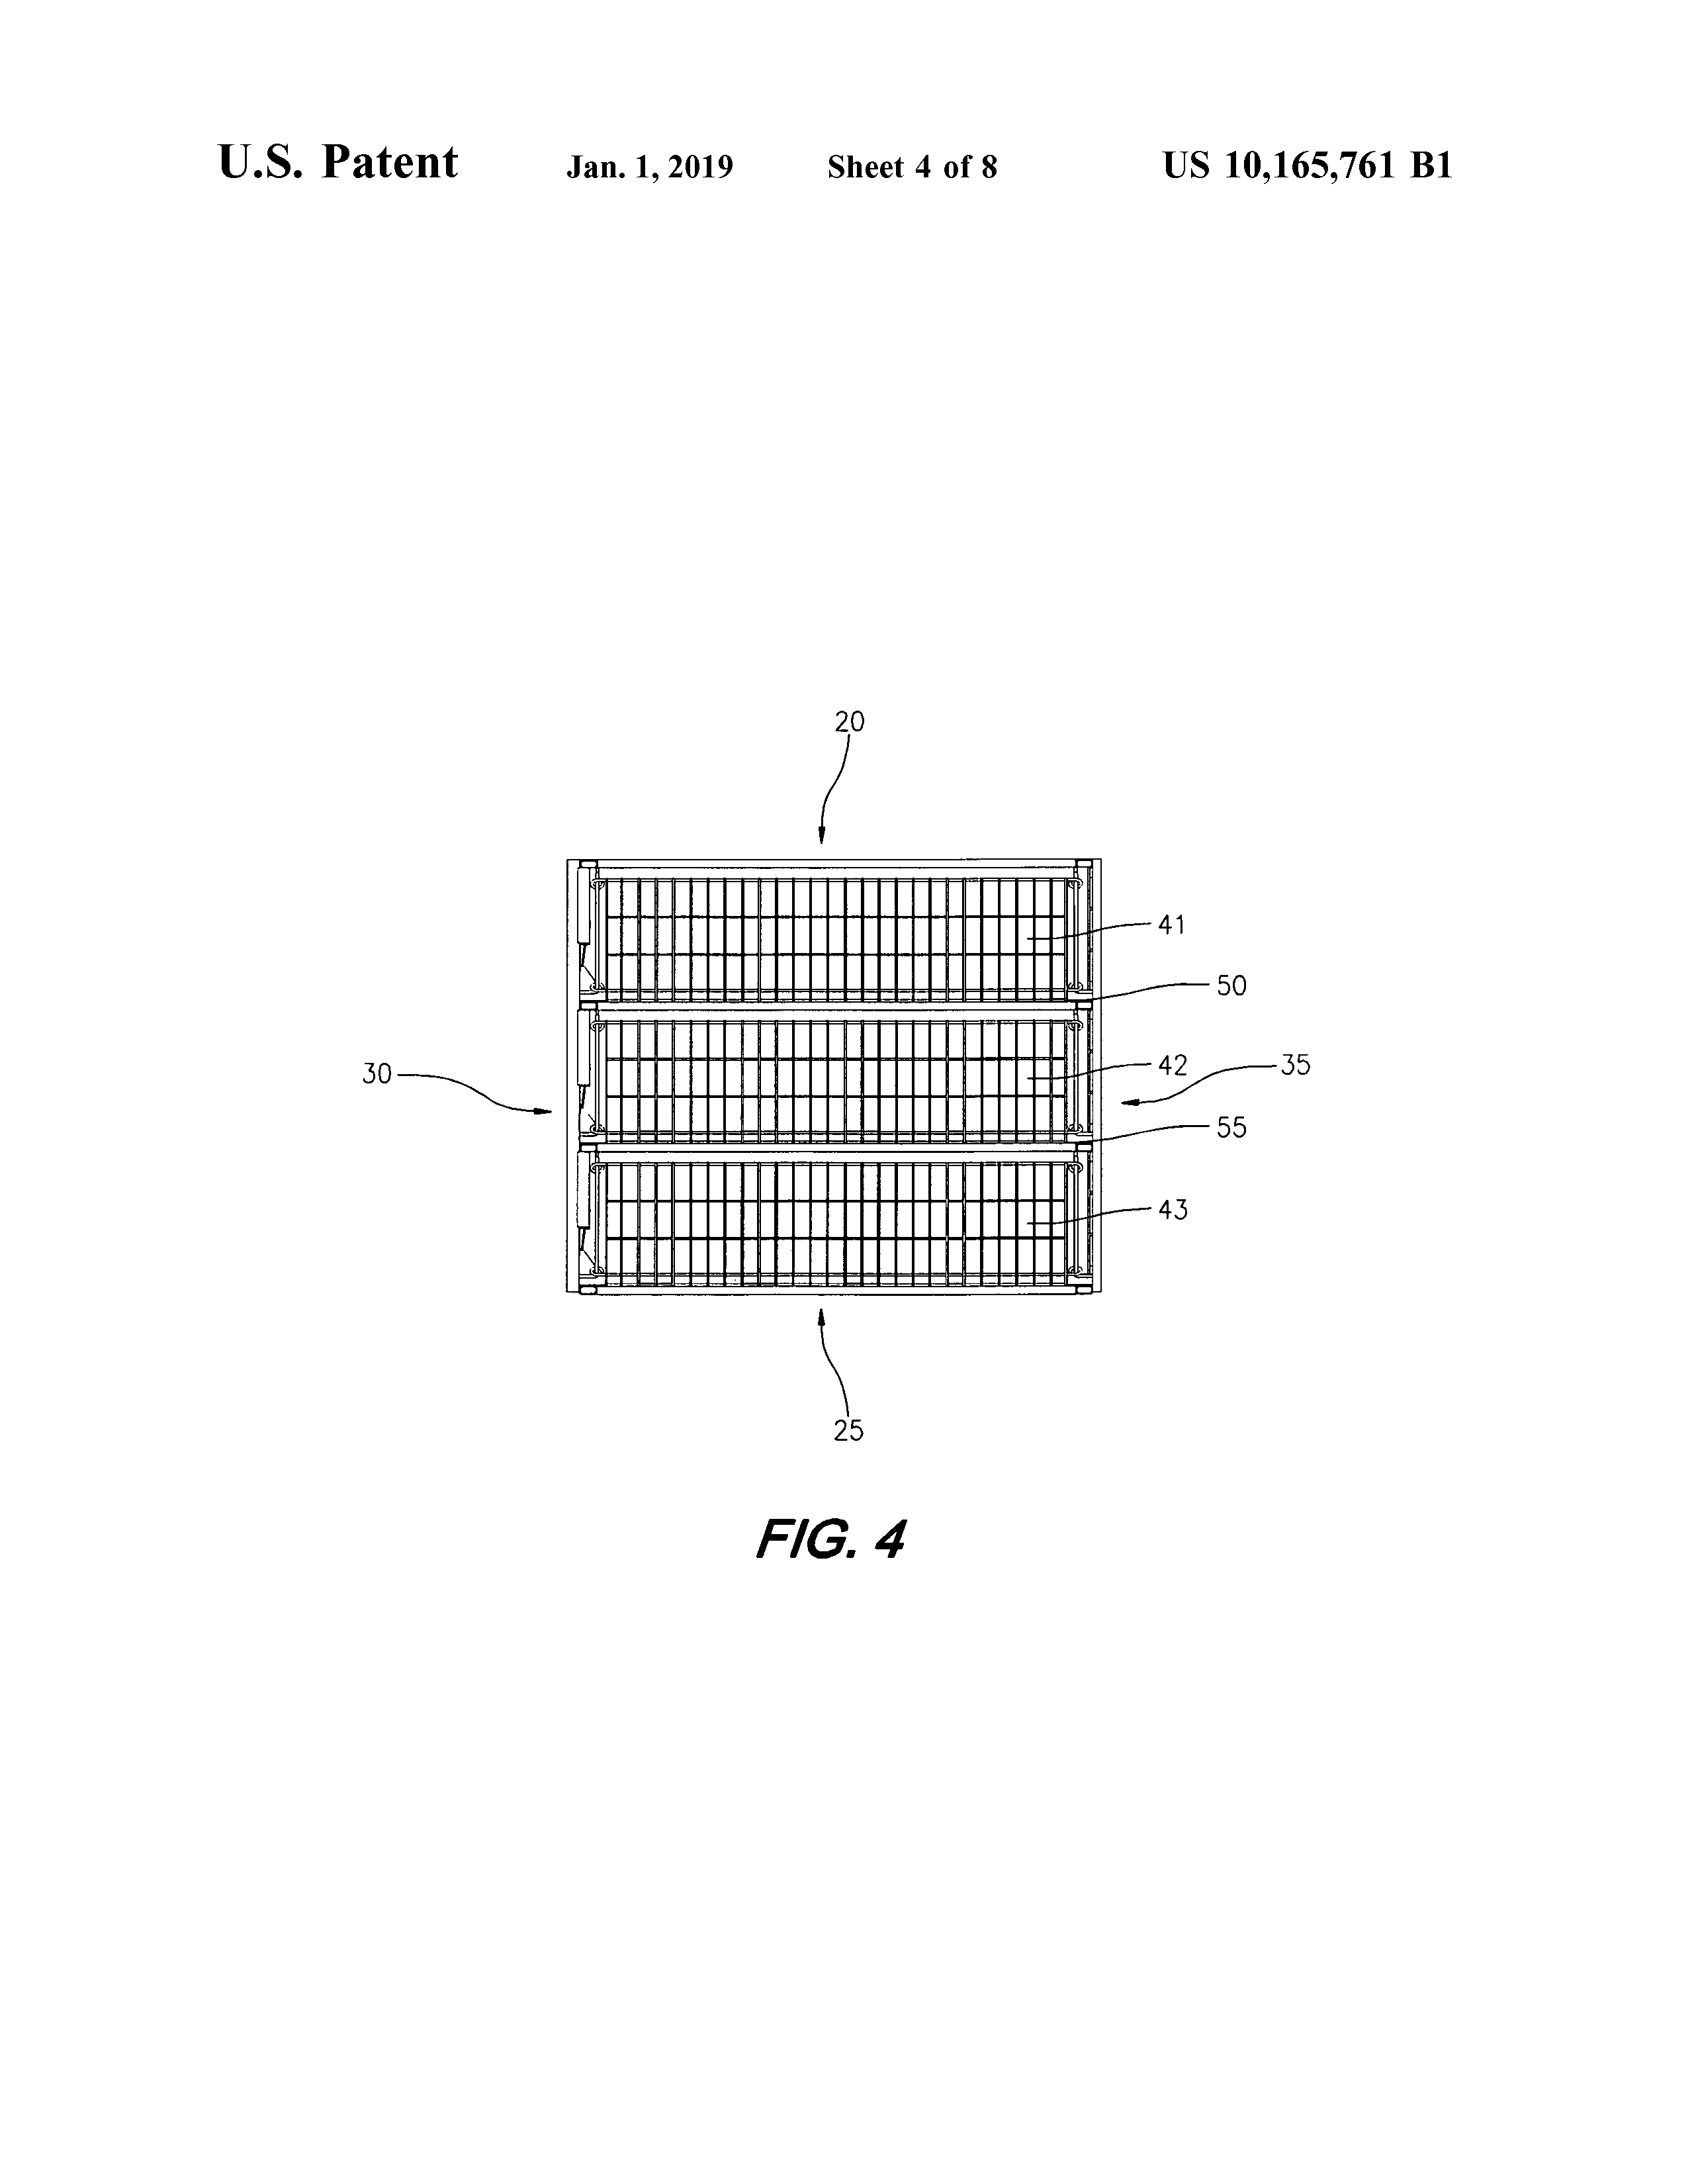patent image: (308, 651, 1359, 1685)
